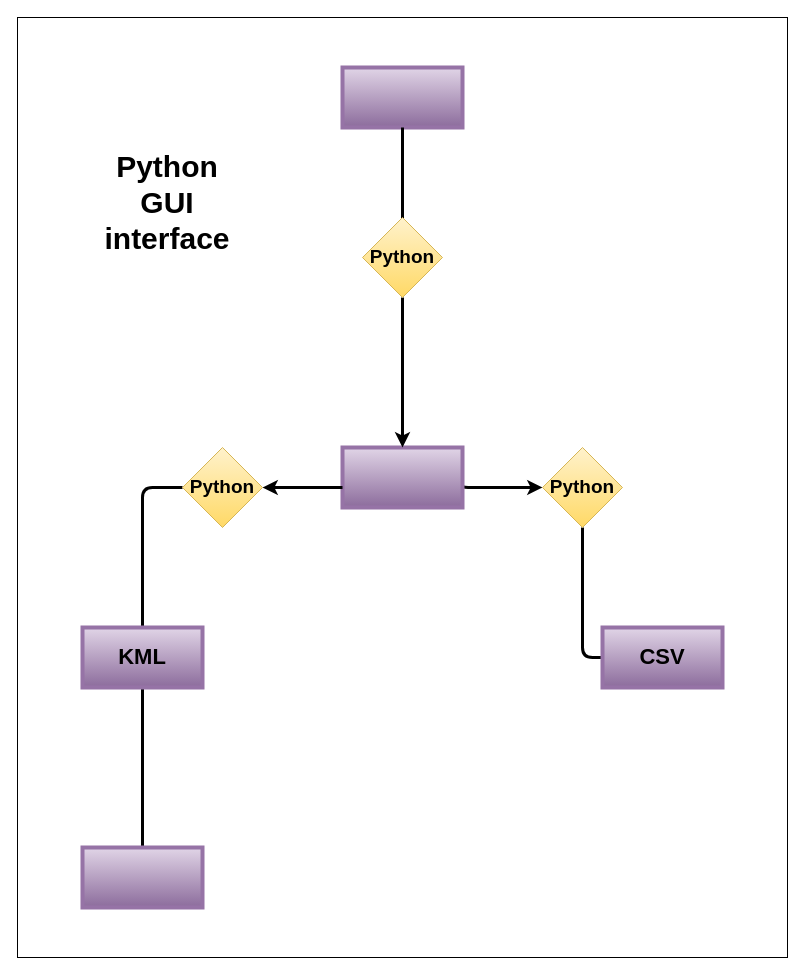
This 805x975 diagram has some shape labels left out. The shapes that lost their labels are listed below. From the top down, each one's box as (x1, y1, x2, y2) in pixels, then its label:
(340, 65, 464, 129): nmea file
(340, 445, 464, 509): מסד נתונים
(80, 845, 204, 909): GOOGLE MAPS
